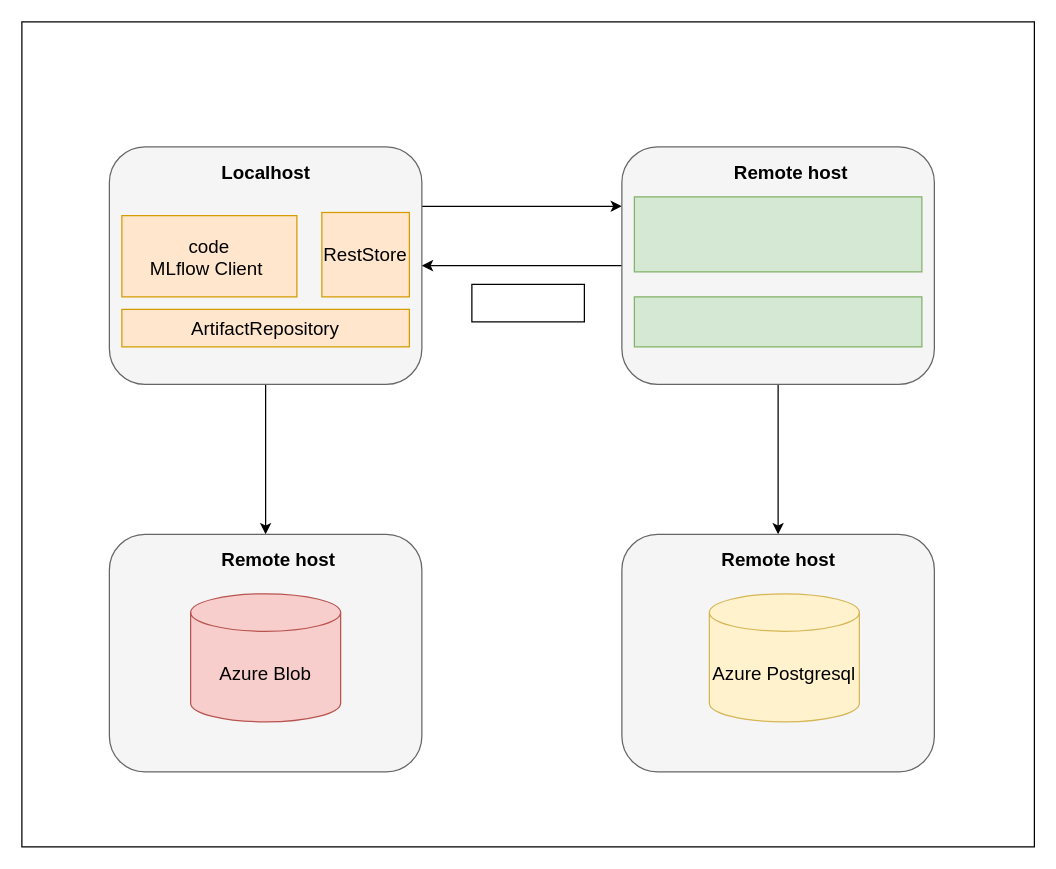
Some shapes in this 1056 by 869 pixel diagram are drawn without their labels. Here are the shapes that lost their labels. From the top down, the box of each, then its label:
(633, 196, 922, 272): TrackigServer
(471, 283, 584, 322): Rest
(633, 296, 922, 347): SQLAlchemyStory
